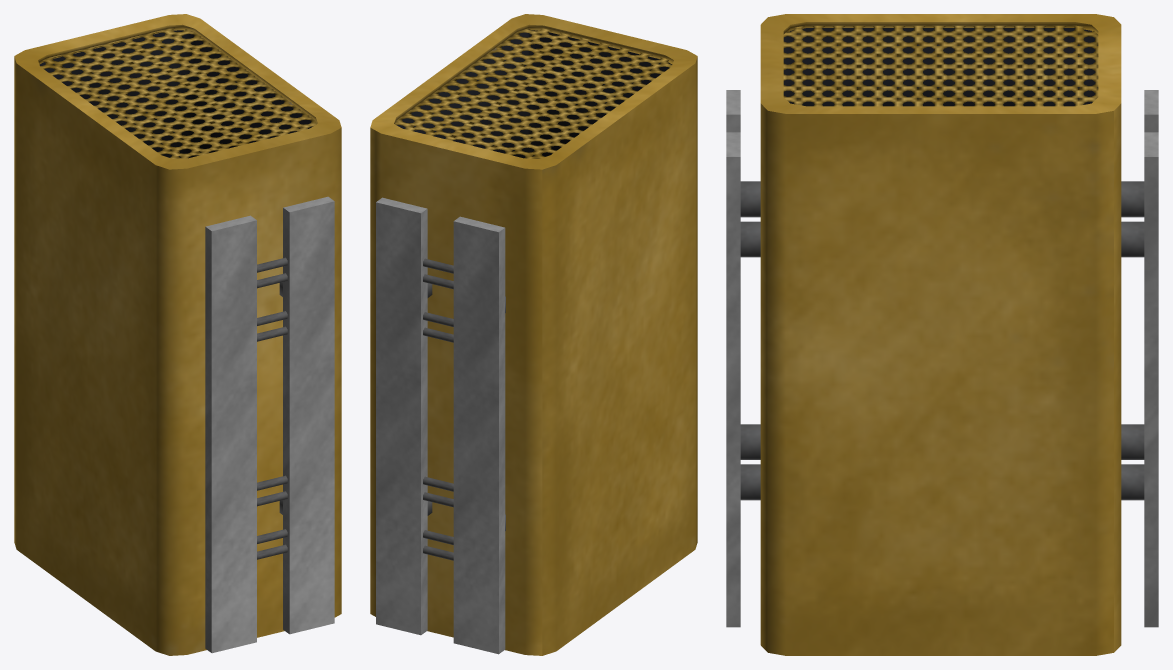
The model's file is Vent.fbx.
3 renders of one model, left to right at view 1: azimuth 30°, elevation 25°; view 2: azimuth 150°, elevation 25°; view 3: azimuth 270°, elevation 25°, orthographic. The views are drawn at different scales.
Parts seen in each view (by area): view 1: Gas_Vent1; view 2: Gas_Vent1; view 3: Gas_Vent1.
Boxes of the visible parts, x1=… form: Gas_Vent1: x1=14, y1=14, x2=341, y2=655; Gas_Vent1: x1=370, y1=14, x2=697, y2=655; Gas_Vent1: x1=726, y1=14, x2=1158, y2=655.
Bounding box in the file's own units: 217 × 548 × 396.
